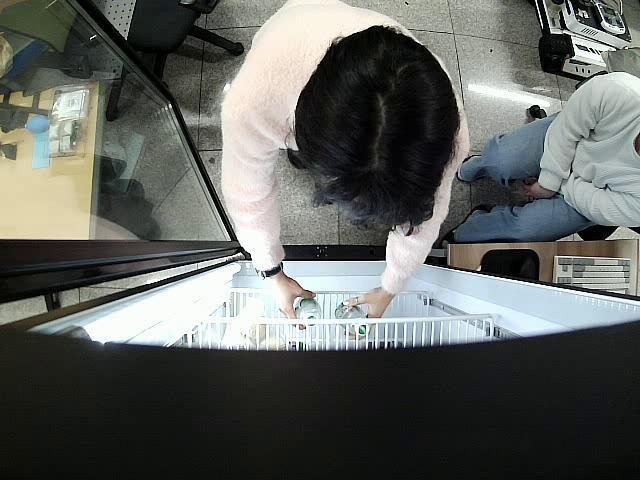18_trevi: (334, 302, 371, 338), (294, 294, 327, 330)
